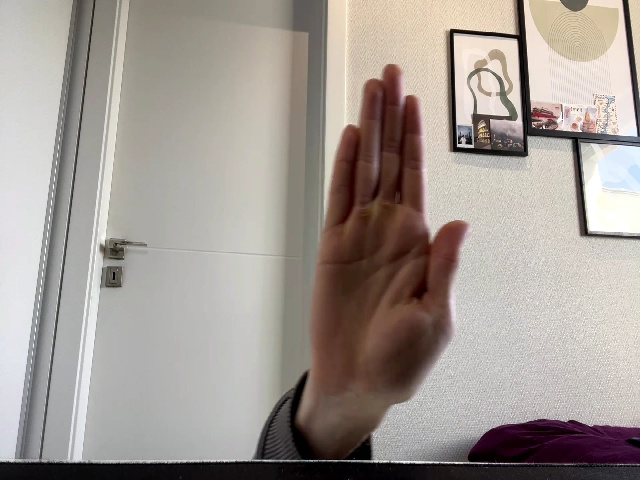B: (310, 64, 468, 409)
